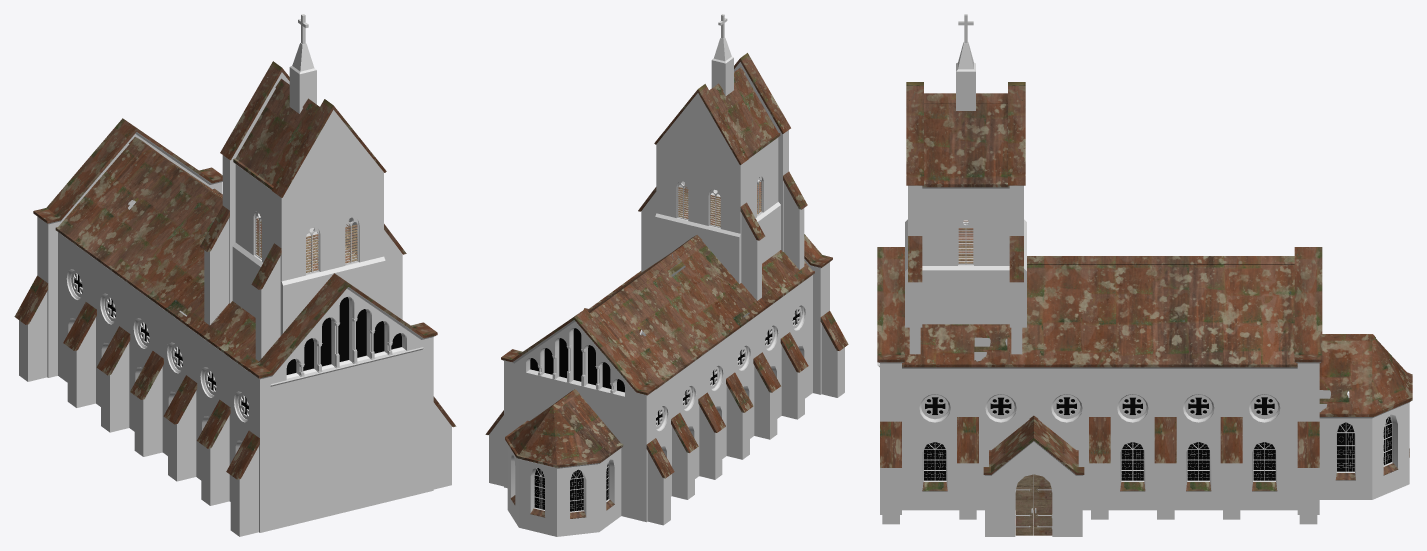
The model's file is BigChurch.fbx.
3 renders of one model, left to right at view 1: azimuth 30°, elevation 25°; view 2: azimuth 150°, elevation 25°; view 3: azimuth 270°, elevation 25°, orthographic. The views are drawn at different scales.
Parts seen in each view (by area): view 1: Church, Tower; view 2: Church, Tower; view 3: Church, Tower, DoorLeft, DoorRight.
Boxes of the visible parts, <box> form: Church: <box>14,118,456,536</box>; Tower: <box>200,42,406,360</box>; Church: <box>485,181,848,536</box>; Tower: <box>638,38,807,300</box>; Church: <box>877,247,1412,536</box>; Tower: <box>905,42,1026,358</box>; DoorLeft: <box>1015,474,1033,535</box>; DoorRight: <box>1034,474,1052,535</box>.
Size of the model in its own units: 1767 by 3224 by 3411.
